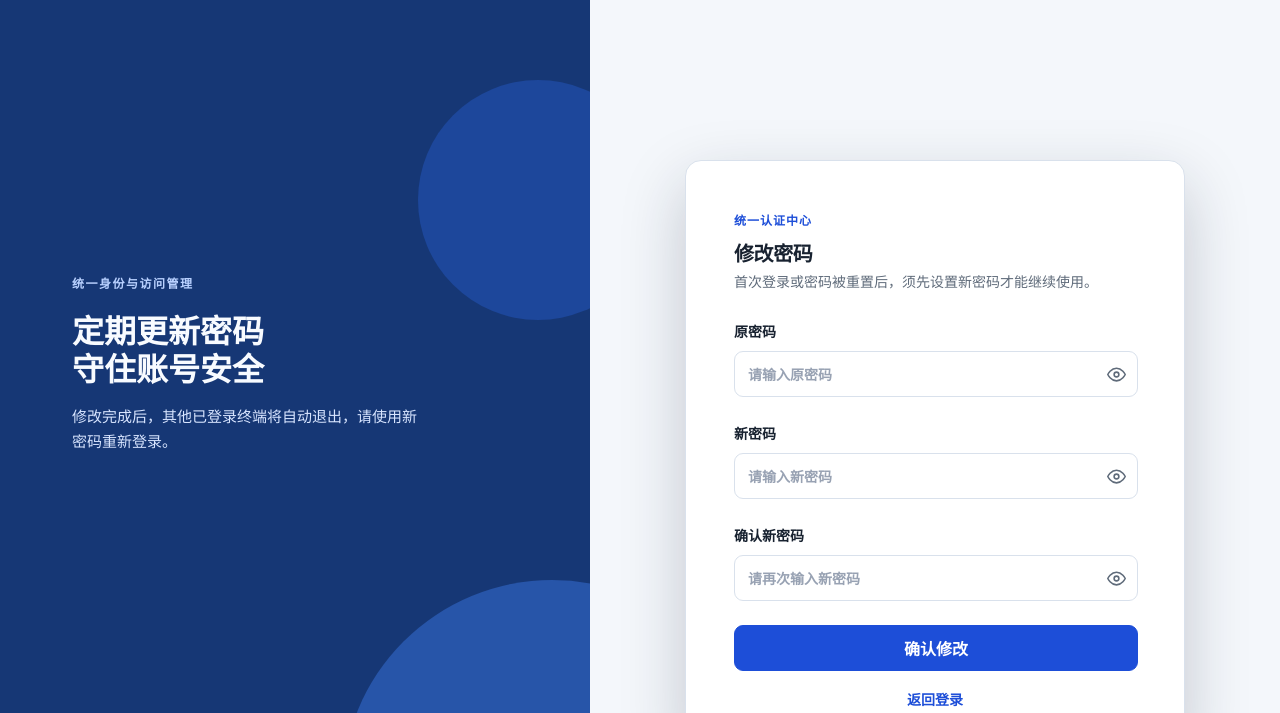
ChangePasswordView › 改密失败应展示服务端错误且不跳转
The image size is (1280, 713).
Step 1. Type "Admin@1234" into the password field labelled "原密码" → (936, 374), box [734,351,1138,397]
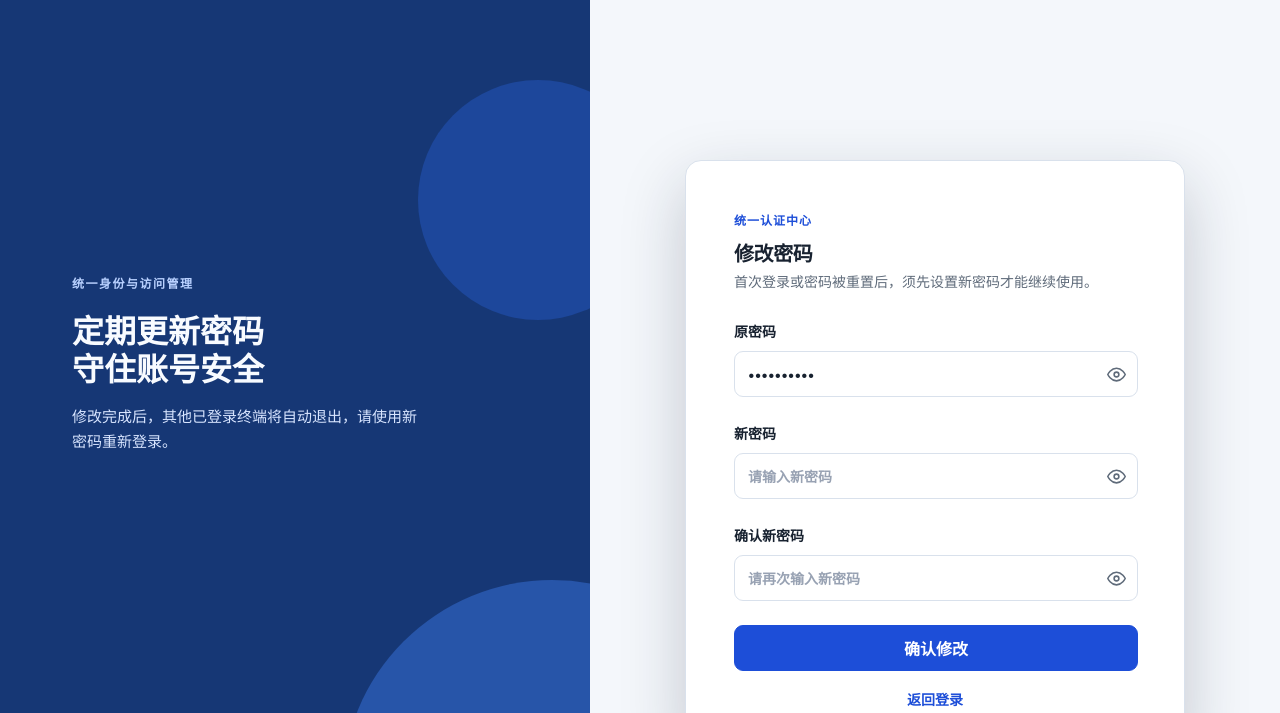
Step 2. Type "weak" into the password field labelled "新密码" → (936, 476), box [734,453,1138,499]
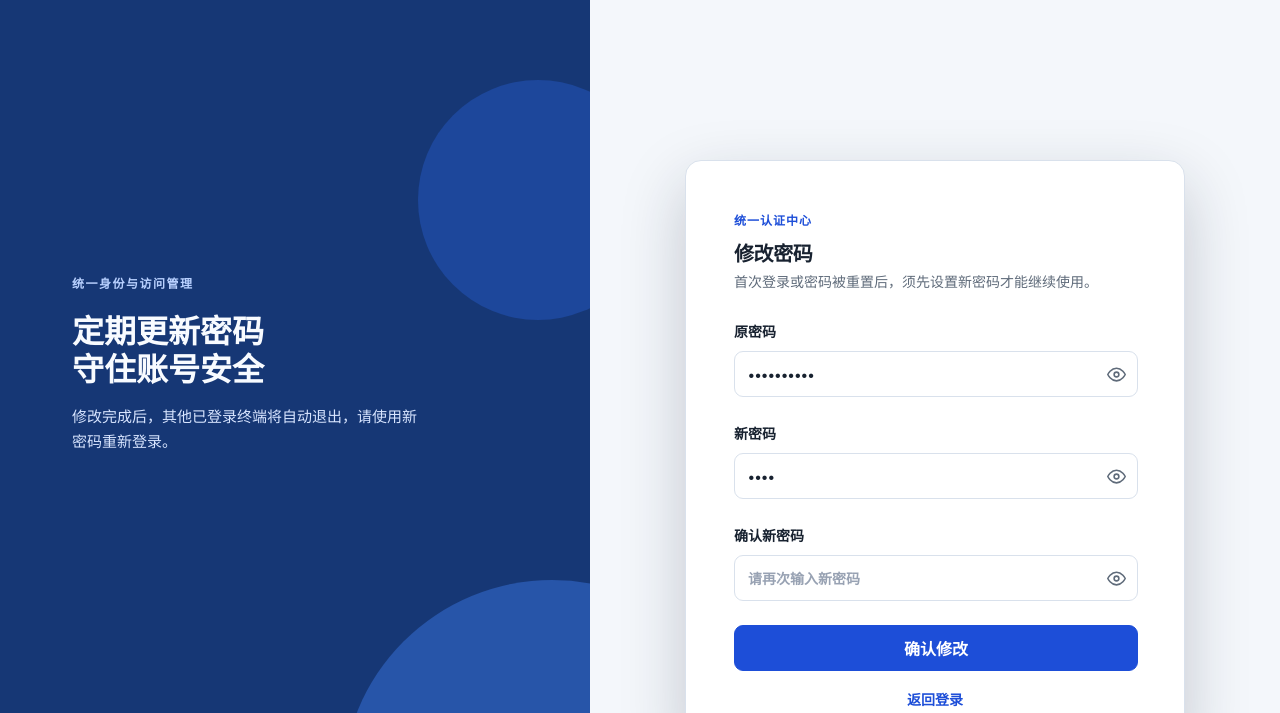
Step 3. Type "weak" into the password field labelled "确认新密码" → (936, 578), box [734,555,1138,601]
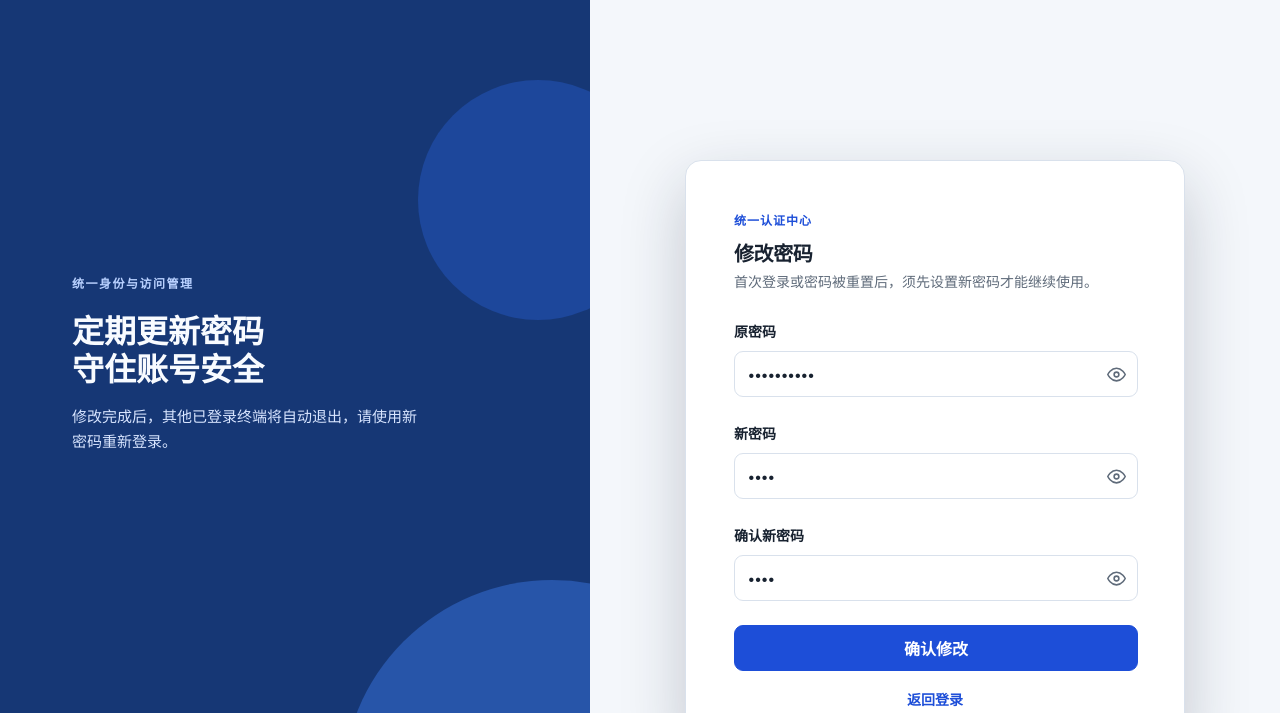
Step 4. Submit the form, box [734,323,1138,671]
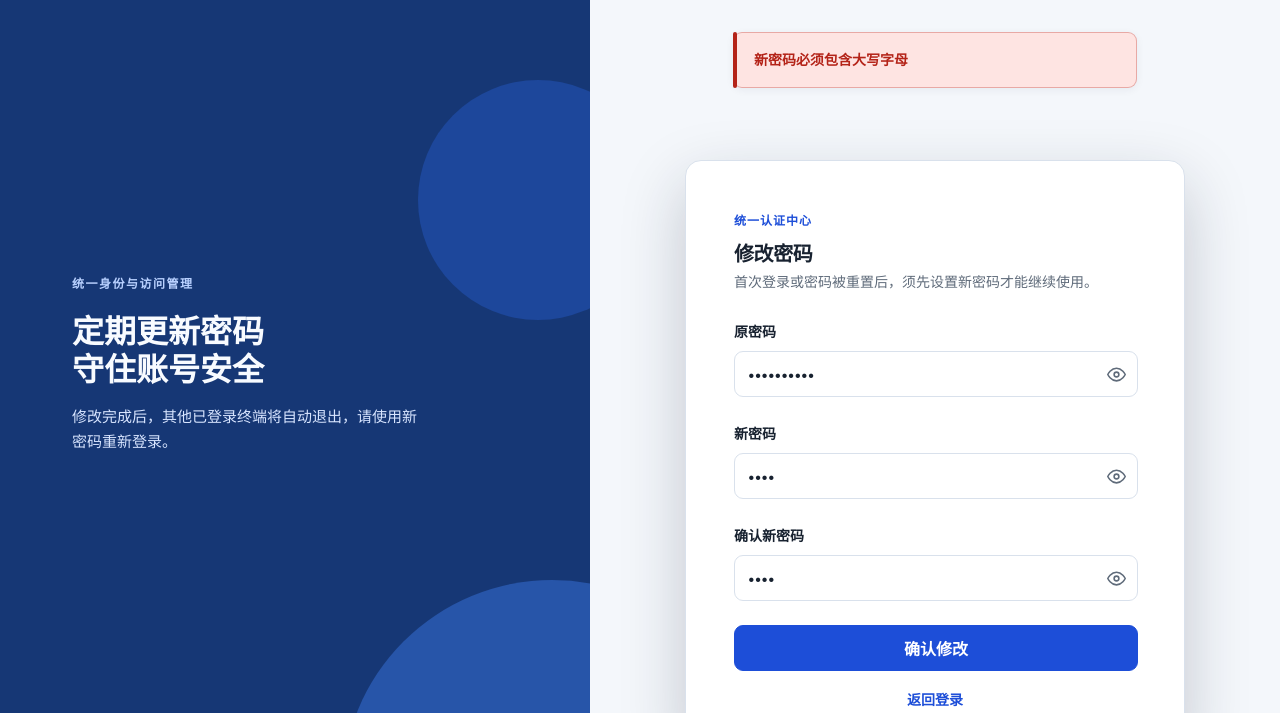
expect the message "新密码必须包含大写字母" is shown: met, box [733,32,1137,88]
